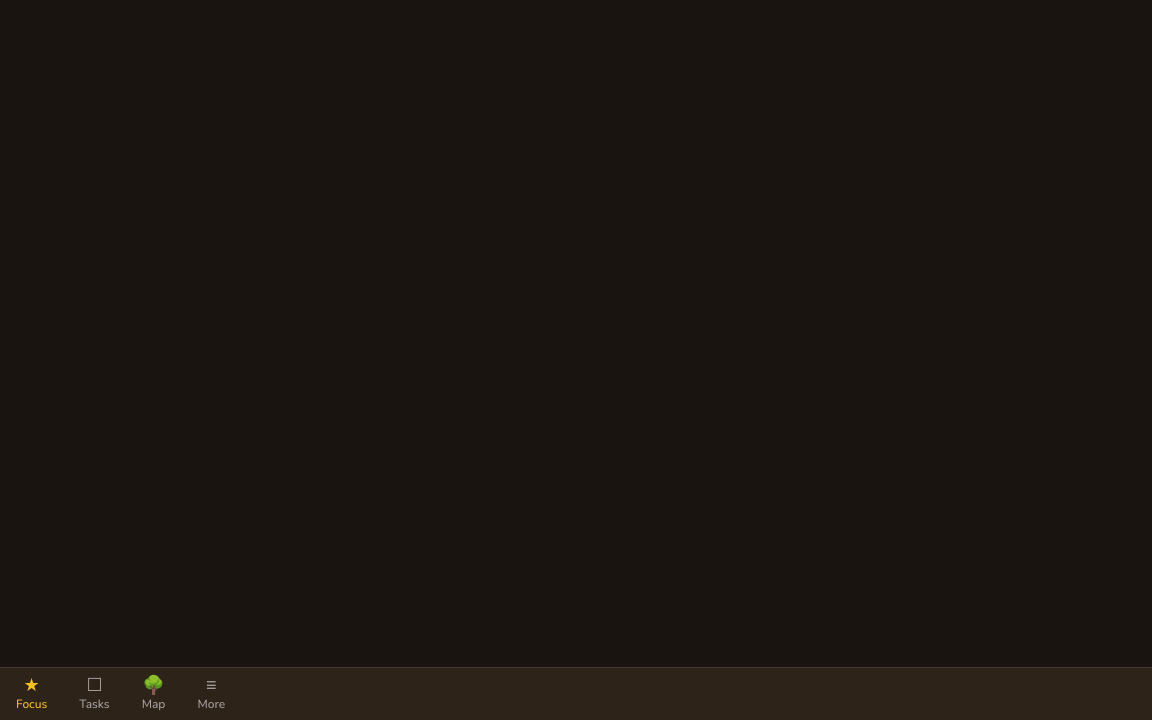
Test: BottomTabBar › opens More sheet on tap
Expected: the text "📊 Dashboard" is not shown
Click the text "More": (211, 704) 197,696 -> 225,712
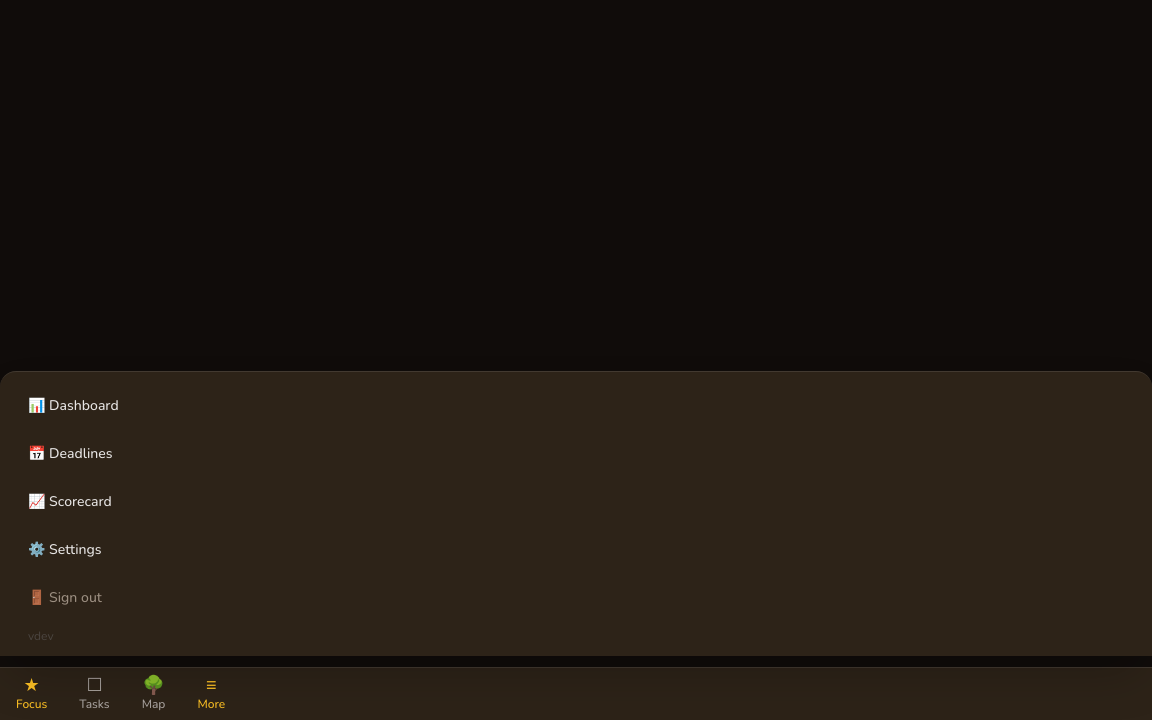
Result: the link "📊 Dashboard" is shown at 28,396 -> 119,415
Result: the link "📅 Deadlines" is shown at 28,444 -> 112,463
Result: the link "📈 Scorecard" is shown at 28,492 -> 112,511
